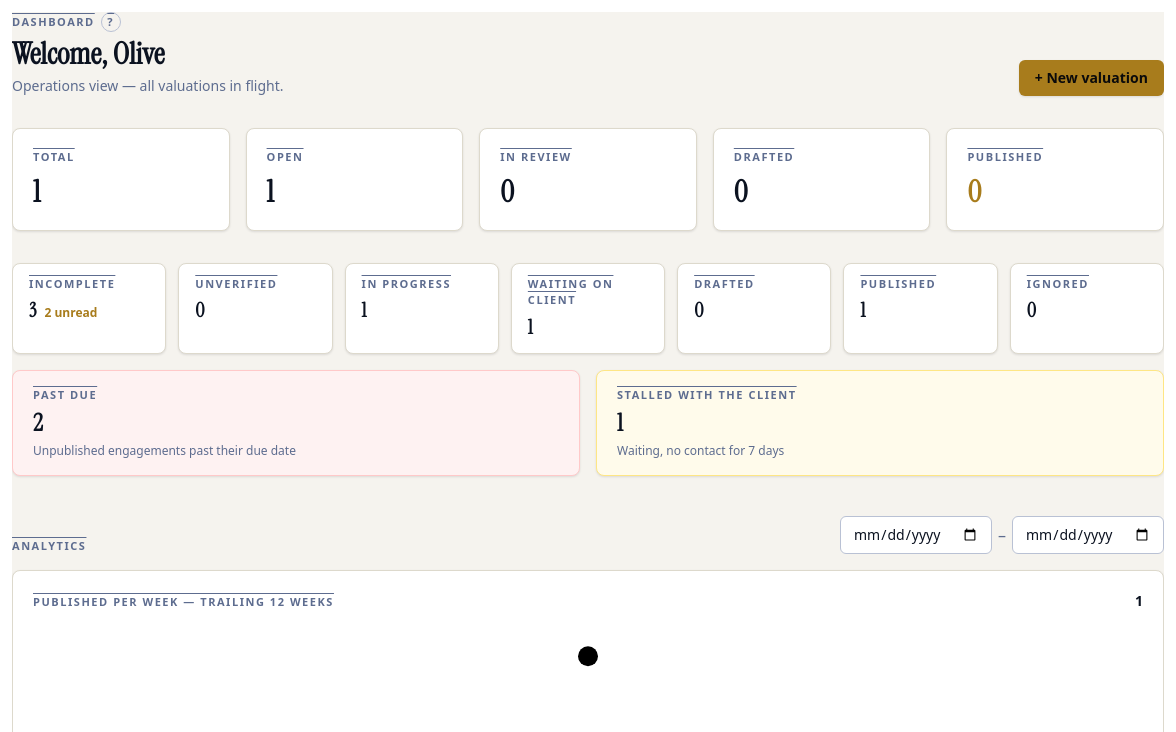
Test: DashboardPage › when the analytics pivot fails › keeps the figures already on screen when a range change fails
Type "2026-01-01" into the date field named "Analytics from" at (916, 535), box [840,516,992,554]
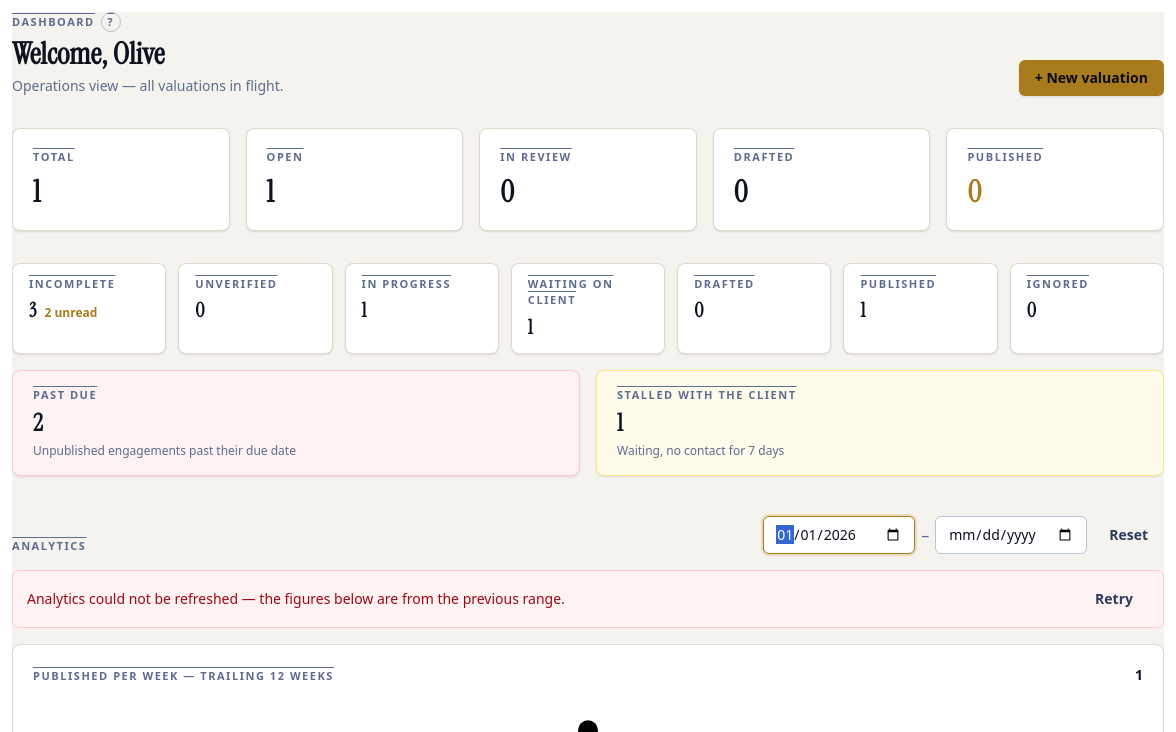
Check: the message is shown, box [12,570,1164,628]
